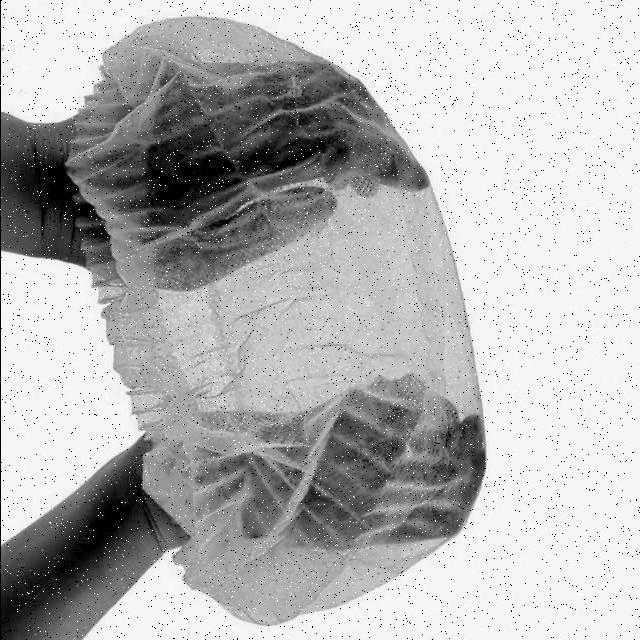gloves: (49, 0, 490, 640)
